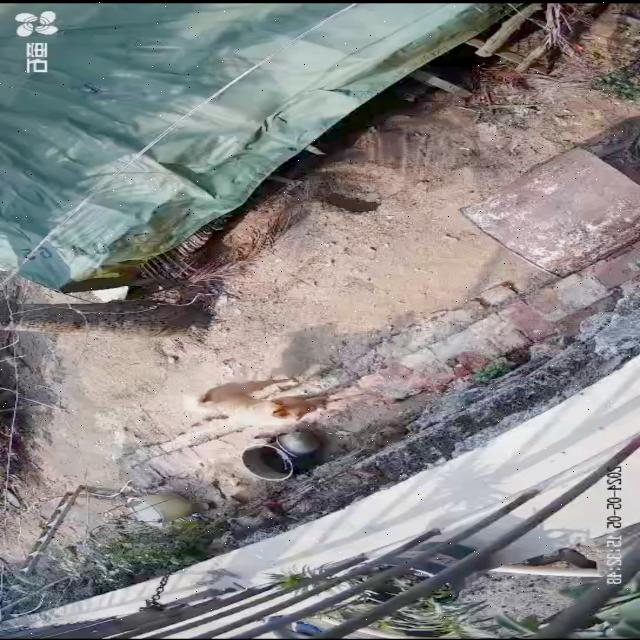dog: (195, 377, 329, 426)
